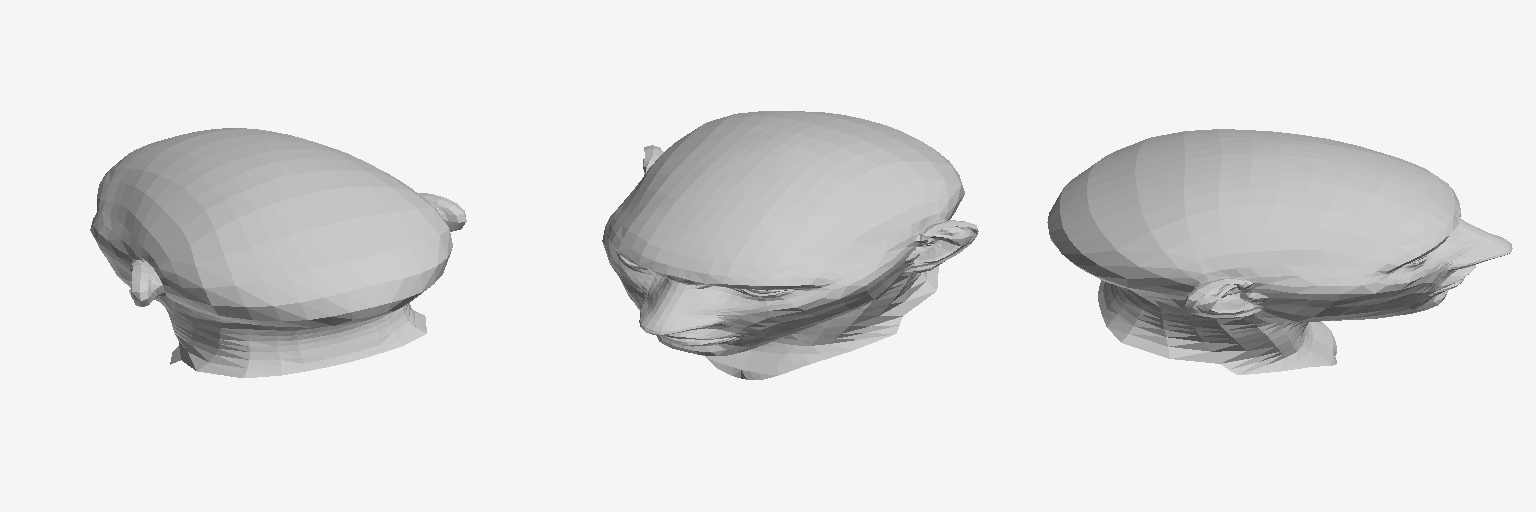
File: extrusion.obj
3 views of the same model, side by side, from view 1: azimuth 30°, elevation 25°; view 2: azimuth 150°, elevation 25°; view 3: azimuth 270°, elevation 25° (orthographic).
Parts seen in each view (by area): view 1: mesh0; view 2: mesh0; view 3: mesh0.
Boxes of the visible parts, x1=… form: mesh0: x1=90, y1=128, x2=466, y2=377; mesh0: x1=602, y1=111, x2=978, y2=379; mesh0: x1=1047, y1=129, x2=1512, y2=374.
Size of the model in its own units: 32.03 by 18.9 by 38.75.